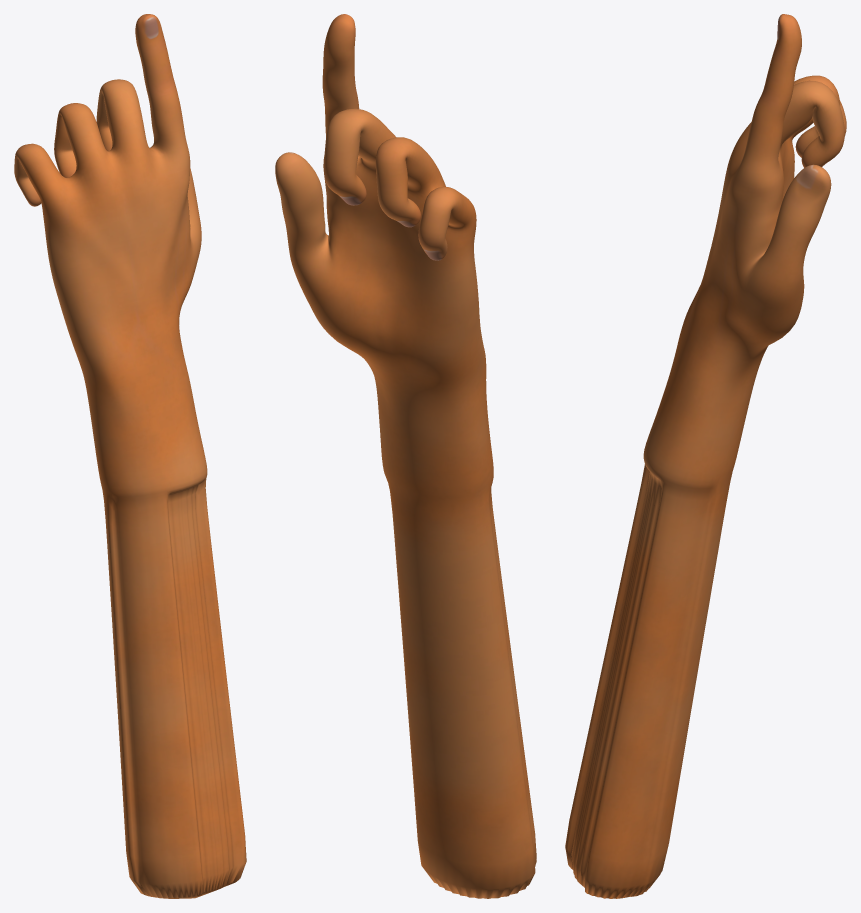
The model's file is stillway-hand-v2_web.glb.
3 renders of one model, left to right at view 1: azimuth 30°, elevation 25°; view 2: azimuth 150°, elevation 25°; view 3: azimuth 270°, elevation 25°, orthographic. The views are drawn at different scales.
Parts seen in each view (by area): view 1: Hand_L_web; view 2: Hand_L_web; view 3: Hand_L_web.
Part boxes in pixels (bbox=[...]): Hand_L_web: bbox=[14, 14, 246, 898]; Hand_L_web: bbox=[275, 14, 536, 898]; Hand_L_web: bbox=[565, 14, 846, 898].
Size of the model in its own units: 0.1046 by 0.5058 by 0.1445.
1 material, 1 textured.
